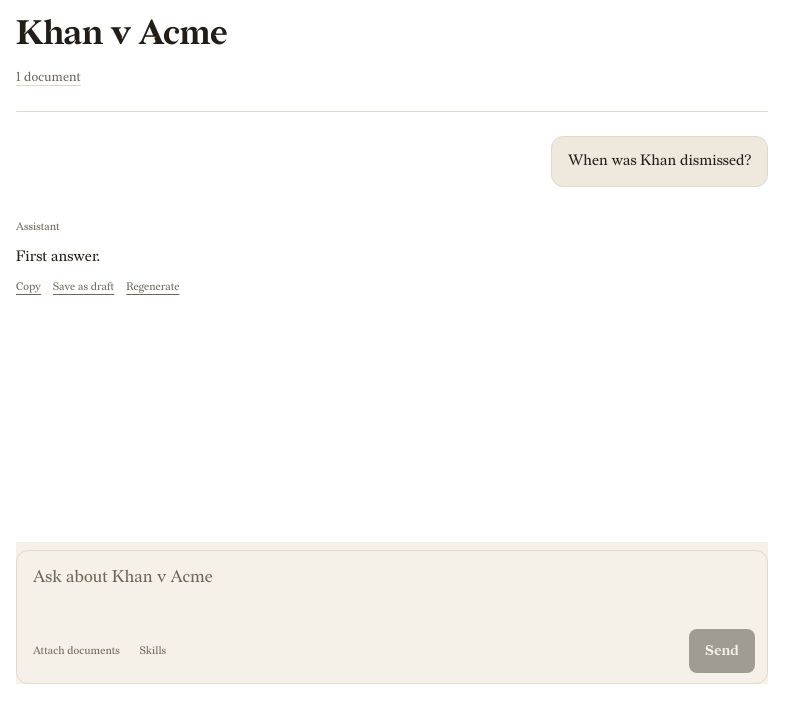
Test: AssistantTab — Regenerate › resends the previous prompt as a new turn and keeps the earlier answer
Step 1. Click the button with test id "message-regenerate" → {"x": 153, "y": 288}, box top-left (126, 279), bottom-right (179, 296)
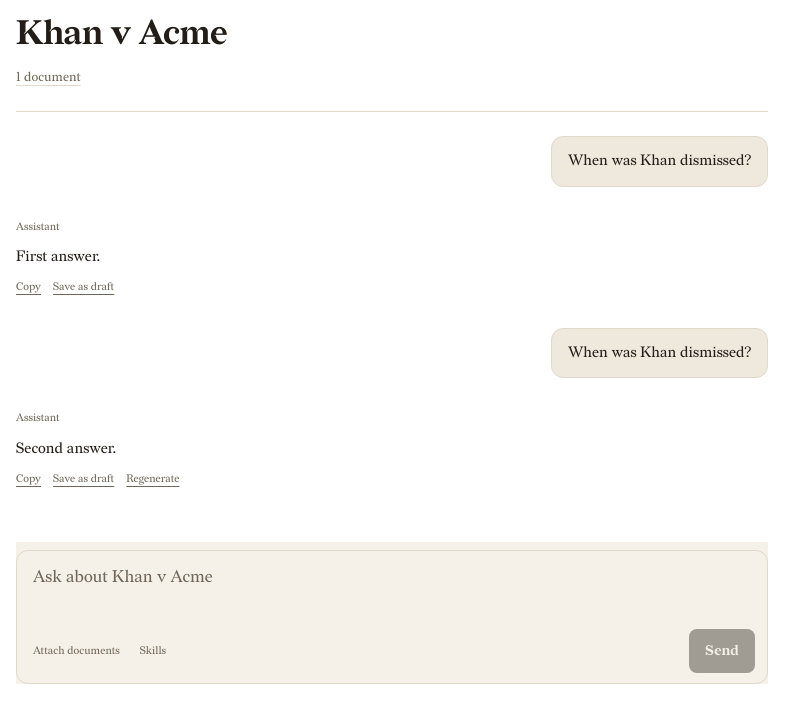
Check: the text "First answer." is shown, box top-left (16, 247), bottom-right (100, 266)
Check: the text "Second answer." is shown, box top-left (16, 439), bottom-right (116, 458)
